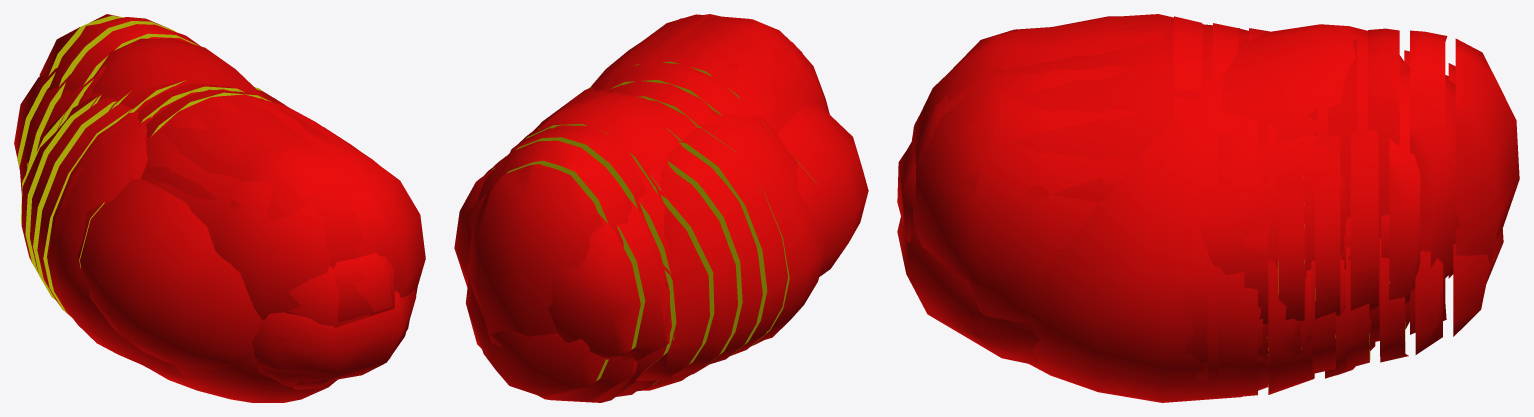
The model's file is potatoes_grp.fbx.
The picture shows the model from 3 angles, left to right: view 1: azimuth 30°, elevation 25°; view 2: azimuth 150°, elevation 25°; view 3: azimuth 270°, elevation 25°; orthographic projection. The views are drawn at different scales.
Parts seen in each view (by area): view 1: potato_b6_slice_1, potato_b6, potato_c7_slice_1, potato_b9, potato_c7, potato_a8, potato_b3, potato_c9, potato_b9_slice_1, potato_a8_slice_4, potato_a8_slice_5, potato_b9_slice_7 (+11 smaller); view 2: potato_b9_slice_9, potato_a8, potato_b6_slice_9, potato_b6_slice_1, potato_b6, potato_b7_slice_9, potato_a8_slice_6, potato_c7_slice_1, potato_a8_slice_5, potato_a8_slice_7, potato_a8_slice_4, potato_b9 (+17 smaller); view 3: potato_b6_slice_1, potato_c9, potato_b6, potato_b9, potato_c9_slice_1, potato_b9_slice_9, potato_c9_slice_3, potato_b4, potato_b9_slice_8, potato_b4_slice_8, potato_b4_slice_7, potato_b9_slice_1 (+17 smaller).
Boxes of the visible parts, <box> form: potato_b6_slice_1: <box>146,96,425,299</box>; potato_b6: <box>124,86,424,319</box>; potato_c7_slice_1: <box>83,178,249,308</box>; potato_b9: <box>84,38,414,386</box>; potato_c7: <box>79,200,261,369</box>; potato_a8: <box>47,112,195,384</box>; potato_b3: <box>287,253,392,327</box>; potato_c9: <box>152,91,337,402</box>; potato_b9_slice_1: <box>257,288,416,384</box>; potato_a8_slice_4: <box>37,104,132,317</box>; potato_a8_slice_5: <box>30,97,116,299</box>; potato_b9_slice_7: <box>61,24,200,96</box>; potato_b9_slice_9: <box>467,164,603,346</box>; potato_a8: <box>686,110,825,340</box>; potato_b6_slice_9: <box>548,213,640,359</box>; potato_b6_slice_1: <box>612,14,807,124</box>; potato_b6: <box>591,14,829,171</box>; potato_b7_slice_9: <box>468,288,606,396</box>; potato_a8_slice_6: <box>659,165,737,376</box>; potato_c7_slice_1: <box>777,103,868,225</box>; potato_a8_slice_5: <box>667,145,762,365</box>; potato_a8_slice_7: <box>635,203,709,380</box>; potato_a8_slice_4: <box>678,129,785,355</box>; potato_b9: <box>536,92,679,186</box>; potato_b6_slice_1: <box>911,16,1163,324</box>; potato_c9: <box>1029,78,1268,402</box>; potato_b6: <box>913,14,1248,318</box>; potato_b9: <box>903,24,1409,363</box>; potato_c9_slice_1: <box>1041,136,1156,320</box>; potato_b9_slice_9: <box>1455,38,1519,276</box>; potato_c9_slice_3: <box>1217,117,1258,396</box>; potato_b4: <box>1199,134,1347,277</box>; potato_b9_slice_8: <box>1410,30,1447,334</box>; potato_b4_slice_8: <box>1389,65,1420,304</box>; potato_b4_slice_7: <box>1350,110,1378,310</box>; potato_b9_slice_1: <box>897,217,1039,365</box>.
Size of the model in its own units: 11.76 by 11.03 by 17.71.
